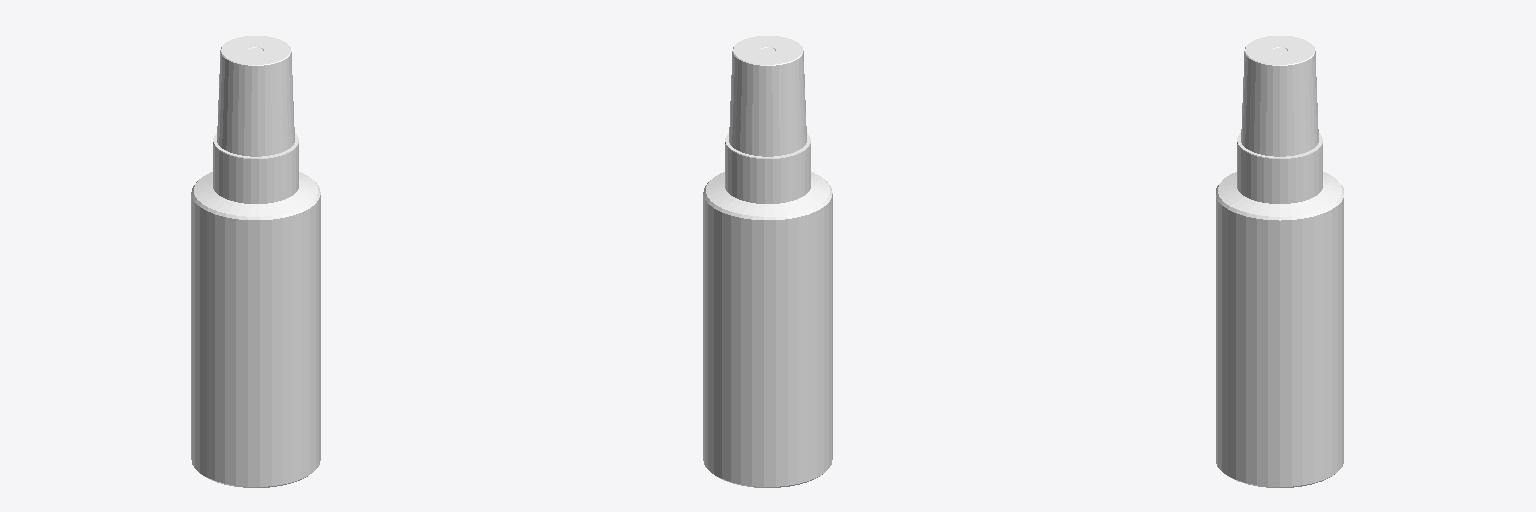
File: bottle_textured.obj
The picture shows the model from 3 angles: view 1: azimuth 30°, elevation 25°; view 2: azimuth 150°, elevation 25°; view 3: azimuth 270°, elevation 25°; orthographic projection.
Parts seen in each view (by area): view 1: polySurface1, bottle_textured_pCylinder1; view 2: polySurface1, bottle_textured_pCylinder1; view 3: polySurface1, bottle_textured_pCylinder1.
Boxes of the visible parts, <box> form: polySurface1: <box>191,172,320,487</box>; bottle_textured_pCylinder1: <box>213,36,298,203</box>; polySurface1: <box>703,172,832,487</box>; bottle_textured_pCylinder1: <box>725,36,810,203</box>; polySurface1: <box>1216,172,1343,487</box>; bottle_textured_pCylinder1: <box>1237,36,1322,203</box>.
Size of the model in its own units: 4.53 by 15.87 by 4.51.